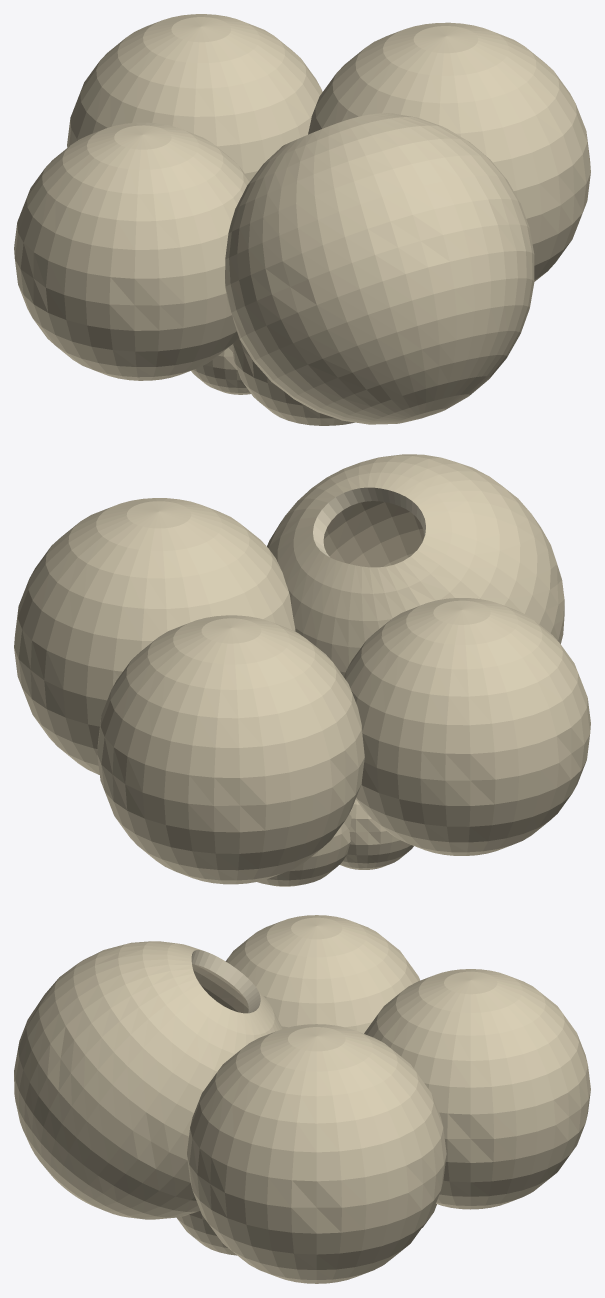
The picture shows the model from 3 angles, top to bottom: view 1: azimuth 30°, elevation 25°; view 2: azimuth 150°, elevation 25°; view 3: azimuth 270°, elevation 25°; orthographic projection. The views are drawn at different scales.
Visible parts, largest first — view 1: CompleteLastChamberWithTrueRimmedAperture, CompleteFinalWhorlChamber_1, CompleteFinalWhorlChamber_3, CompleteFinalWhorlChamber_2, CompleteEarlySpiralChamber_4, CompleteEarlySpiralChamber_1; view 2: CompleteFinalWhorlChamber_2, CompleteFinalWhorlChamber_1, CompleteLastChamberWithTrueRimmedAperture, CompleteFinalWhorlChamber_3, CompleteEarlySpiralChamber_1, CompleteEarlySpiralChamber_2; view 3: CompleteFinalWhorlChamber_3, CompleteLastChamberWithTrueRimmedAperture, CompleteFinalWhorlChamber_2, CompleteFinalWhorlChamber_1, CompleteEarlySpiralChamber_4.
Part boxes in pixels (x1,y1,x2,y2): CompleteLastChamberWithTrueRimmedAperture: [225, 113, 534, 424]; CompleteFinalWhorlChamber_1: [14, 122, 250, 380]; CompleteFinalWhorlChamber_3: [308, 22, 590, 281]; CompleteFinalWhorlChamber_2: [67, 14, 322, 180]; CompleteEarlySpiralChamber_4: [232, 338, 354, 425]; CompleteEarlySpiralChamber_1: [191, 345, 250, 394]; CompleteFinalWhorlChamber_2: [97, 615, 364, 884]; CompleteFinalWhorlChamber_1: [344, 598, 590, 855]; CompleteLastChamberWithTrueRimmedAperture: [267, 454, 564, 676]; CompleteFinalWhorlChamber_3: [14, 498, 295, 774]; CompleteEarlySpiralChamber_1: [340, 799, 413, 869]; CompleteEarlySpiralChamber_2: [257, 809, 351, 886]; CompleteFinalWhorlChamber_3: [187, 1024, 446, 1283]; CompleteLastChamberWithTrueRimmedAperture: [14, 941, 282, 1219]; CompleteFinalWhorlChamber_2: [364, 969, 590, 1209]; CompleteFinalWhorlChamber_1: [225, 915, 420, 1033]; CompleteEarlySpiralChamber_4: [177, 1211, 236, 1255].
Bounding box in the file's own units: 0.115 × 0.0642 × 0.1199.
